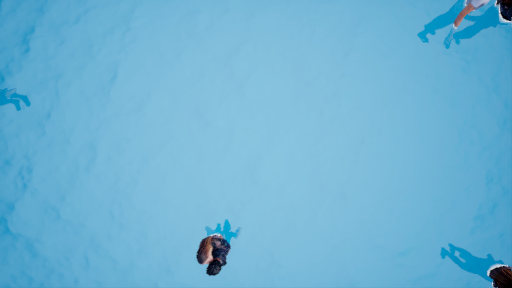person: (187, 218, 251, 275)
